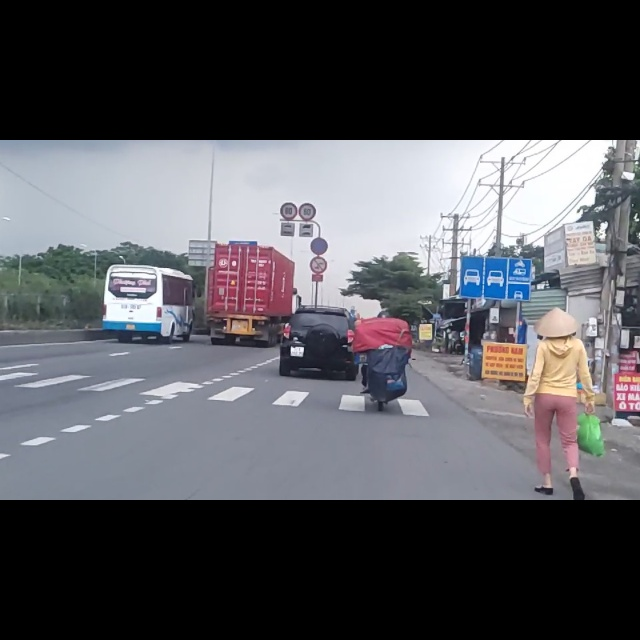bien_chi_dan: (460, 205, 532, 286), (310, 172, 329, 204), (299, 113, 316, 145), (310, 207, 327, 238), (281, 111, 298, 141)
